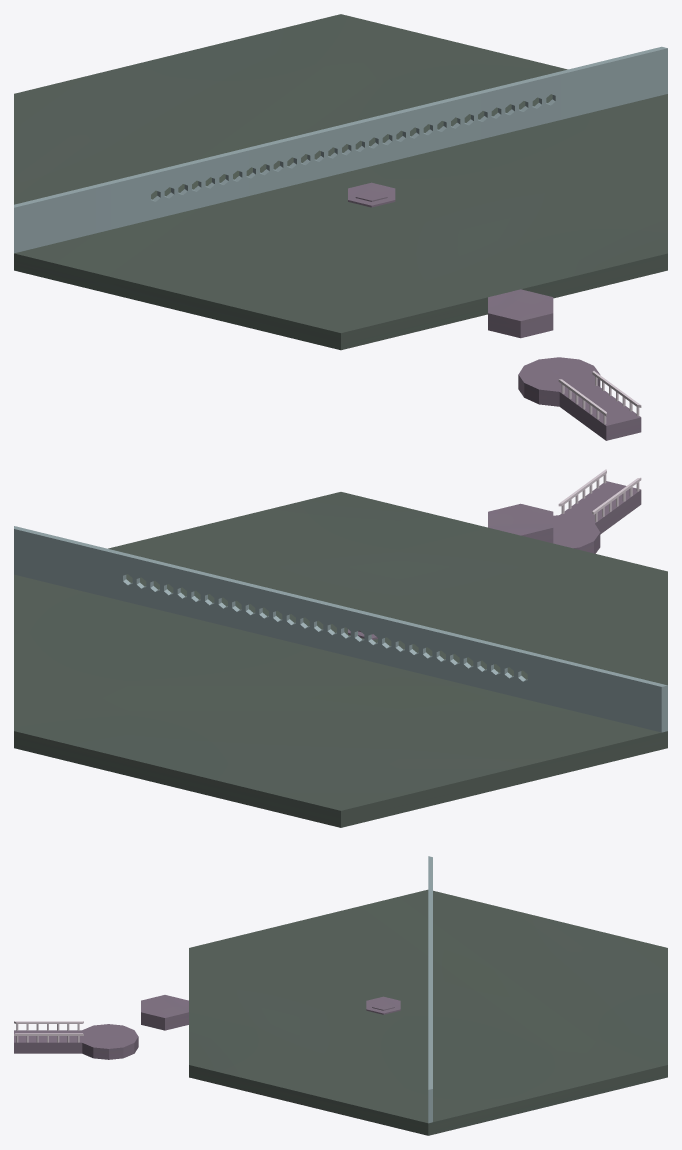
File: level1_1.0.glb
The picture shows the model from 3 angles, top to bottom: view 1: azimuth 30°, elevation 25°; view 2: azimuth 150°, elevation 25°; view 3: azimuth 270°, elevation 25°; orthographic projection. The views are drawn at different scales.
Parts seen in each view (by area): view 1: level1; view 2: level1; view 3: level1.
Boxes of the visible parts, x1,y1,x2,y2 form: level1: (14, 14, 667, 440); level1: (14, 469, 667, 827); level1: (14, 856, 667, 1135).
Size of the model in its own units: 60 by 8.9 by 70.92.
Materials: 1 (1 with a texture image).
